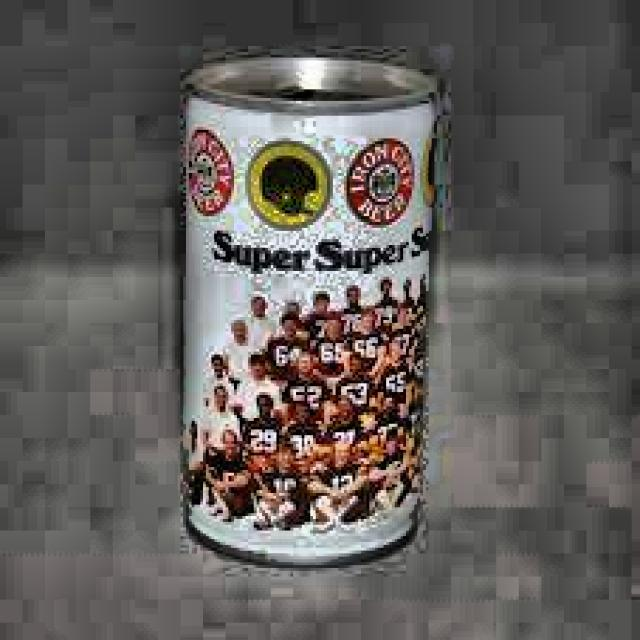can: (175, 50, 447, 574)
